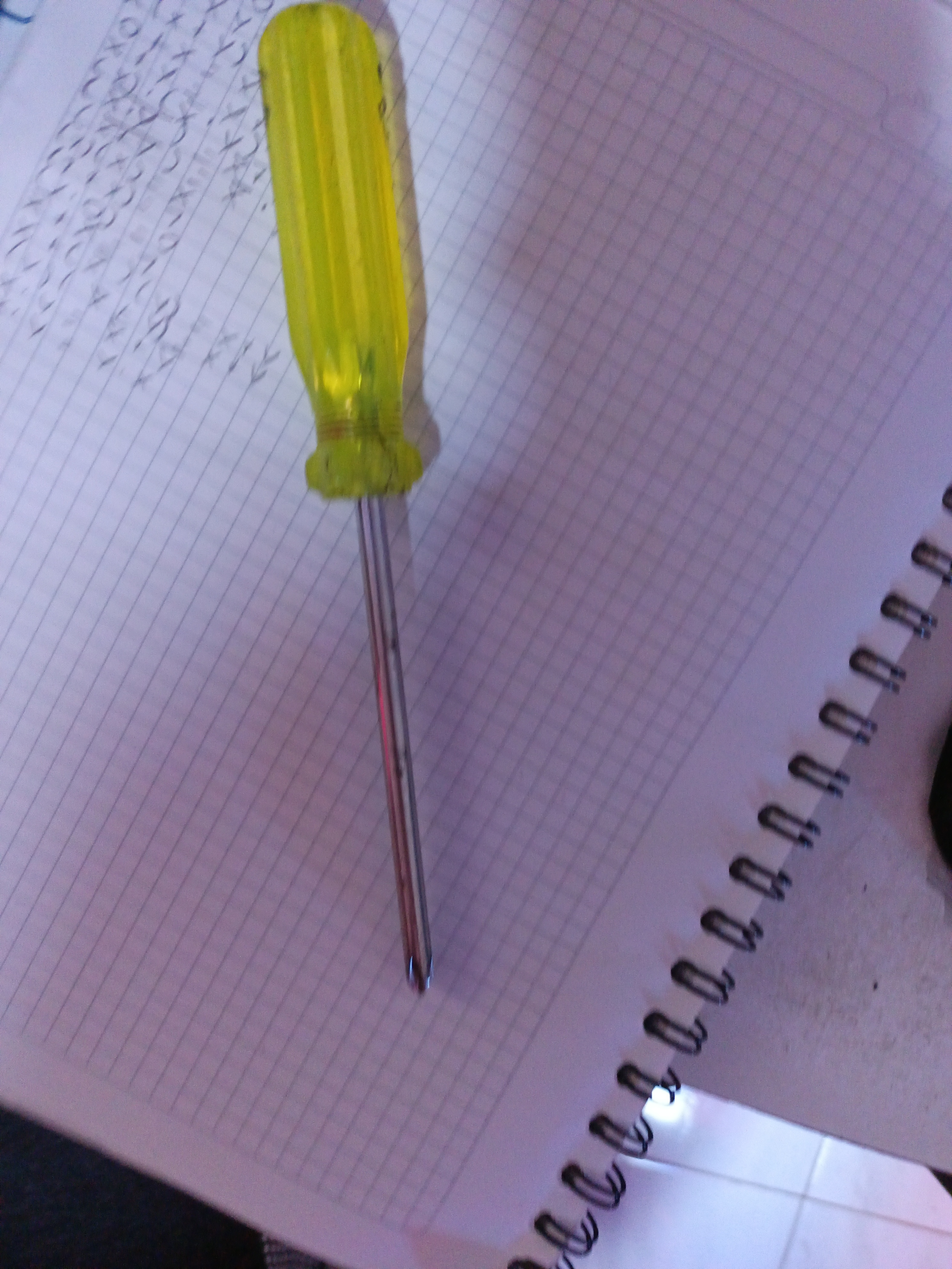Destornillador: (259, 4, 432, 993)
